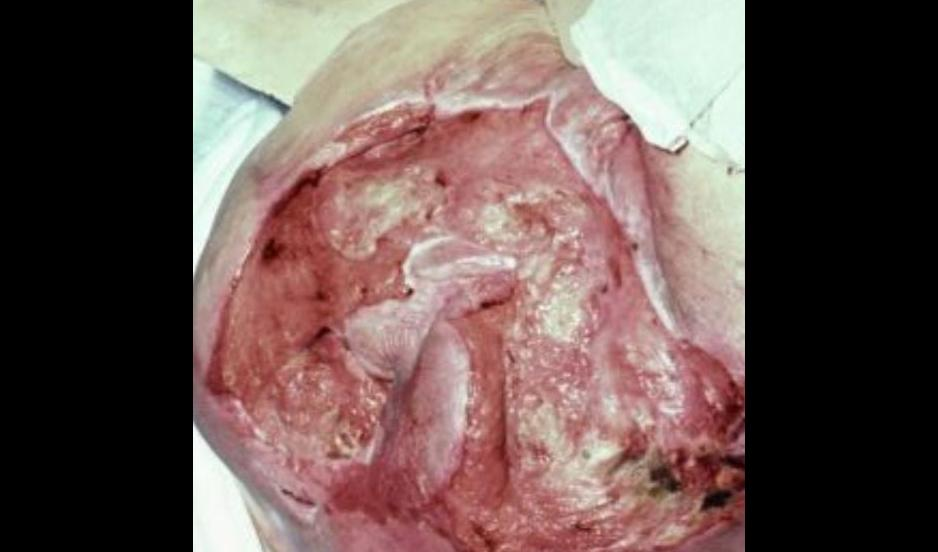Stage4: (195, 90, 732, 552)
